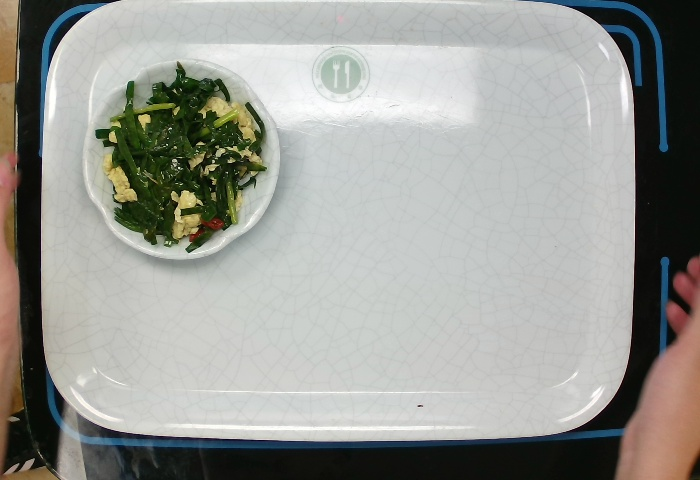JYsf-Ao_Yuan_Wan: (78, 55, 284, 263)
